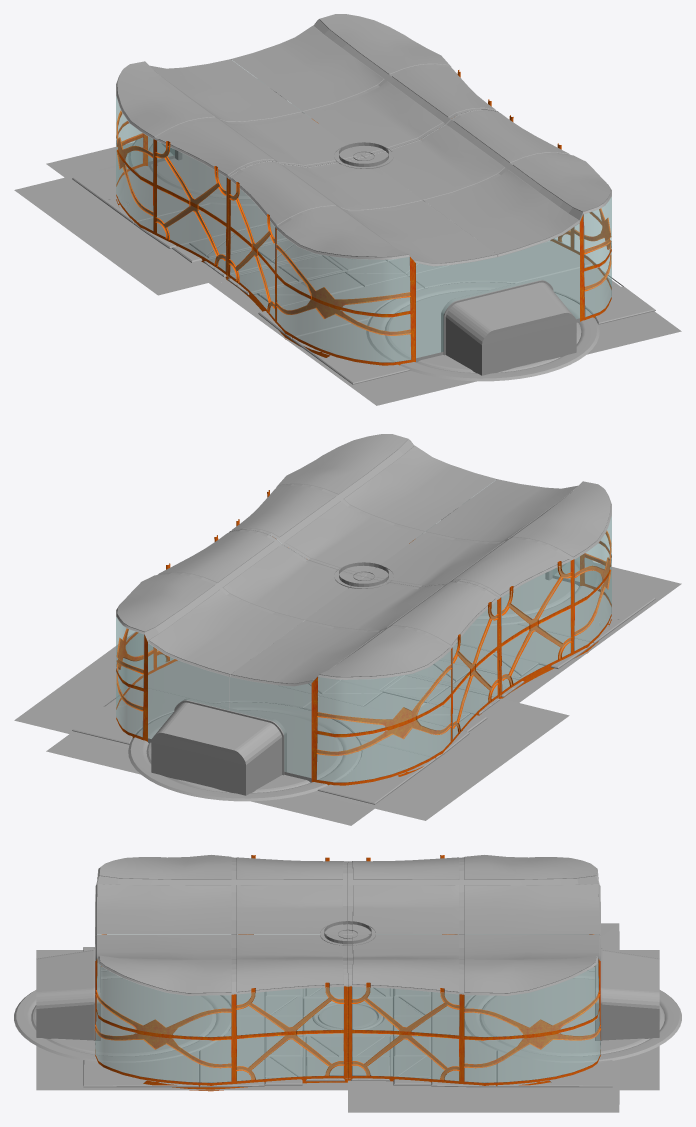
The model's file is Arenas_Test.fbx.
The picture shows the model from 3 angles, top to bottom: view 1: azimuth 30°, elevation 25°; view 2: azimuth 150°, elevation 25°; view 3: azimuth 270°, elevation 25°; orthographic projection. The views are drawn at different scales.
Visible parts, largest first — view 1: Top, Floor, Walls, Grids_01, Underground, frame_door_01; view 2: Top, Floor, Walls, grids_02, Underground, Framedoor_02; view 3: Top, Floor, Walls, Underground, Grids_01, grids_02, frame_door_01, Framedoor_02.
Boxes of the visible parts, x1,y1,x2,y2 form: Top: (116,14,611,266); Floor: (14,124,655,384); Walls: (116,70,611,365); Grids_01: (445,282,576,375); Underground: (46,106,681,405); frame_door_01: (441,278,553,355); Top: (116,434,611,686); Floor: (14,537,655,820); Walls: (116,490,611,785); grids_02: (151,702,282,795); Underground: (46,527,681,825); Framedoor_02: (174,698,286,775); Top: (95,855,600,995); Floor: (14,923,681,1112); Walls: (95,855,600,1091); Underground: (36,950,659,1090); Grids_01: (36,950,93,1040); grids_02: (602,950,659,1040); frame_door_01: (93,948,100,1040); Framedoor_02: (595,948,602,1040).
Size of the model in its own units: 10439 by 2758 by 15569.
